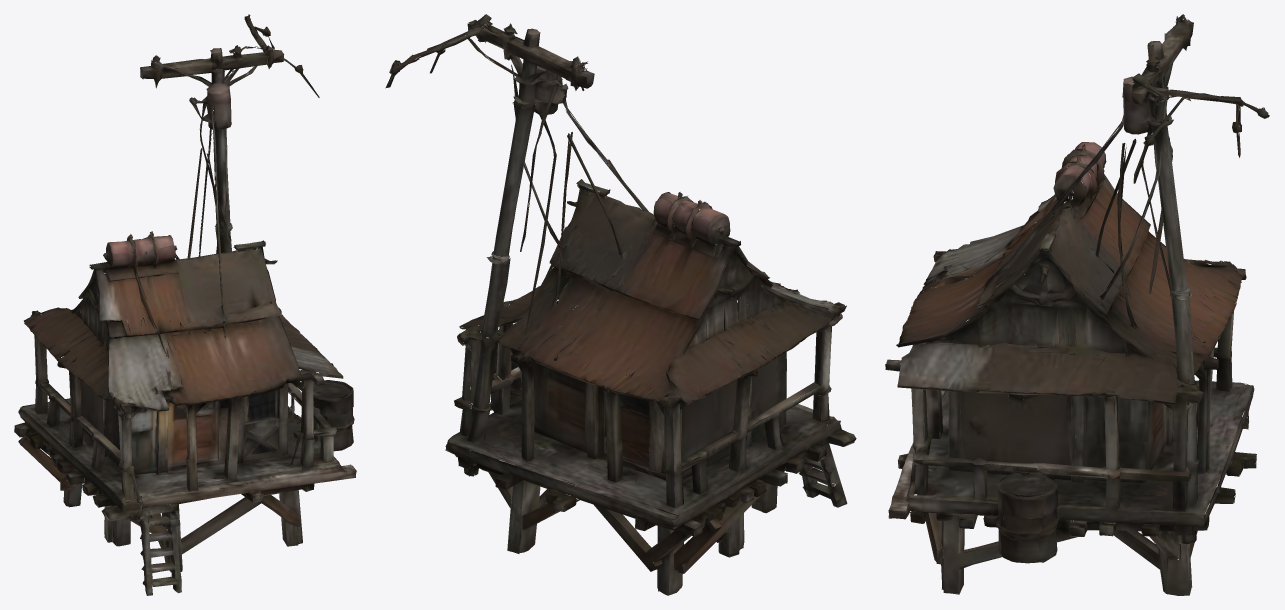
The model's file is projects-shack.glb.
3 views of the same model, side by side, from view 1: azimuth 30°, elevation 25°; view 2: azimuth 150°, elevation 25°; view 3: azimuth 270°, elevation 25° (orthographic). The views are drawn at different scales.
Visible parts, largest first — view 1: Projects_Shack; view 2: Projects_Shack; view 3: Projects_Shack.
Part boxes in pixels (<box>): Projects_Shack: <box>14,14,356,595</box>; Projects_Shack: <box>385,14,856,595</box>; Projects_Shack: <box>885,14,1269,595</box>.
Bounding box in the file's own units: 3.11 × 4.5 × 2.85.
1 material, 1 textured.
